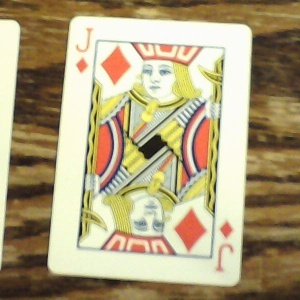card: (45, 14, 255, 286)
